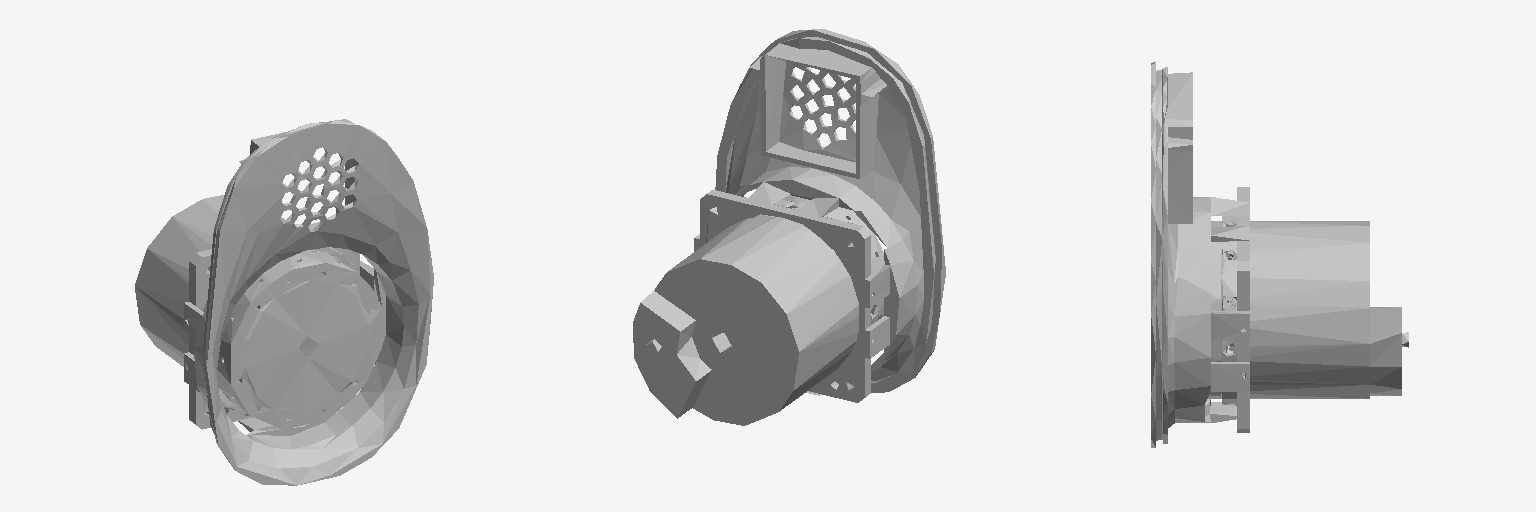
File: left_arm_base_link.obj
The picture shows the model from 3 angles: view 1: azimuth 30°, elevation 25°; view 2: azimuth 150°, elevation 25°; view 3: azimuth 270°, elevation 25°; orthographic projection.
Visible parts, largest first — view 1: Base_Link; view 2: Base_Link; view 3: Base_Link.
Part boxes in pixels (x1,y1,x2,y2): Base_Link: (135,119,433,485); Base_Link: (633,29,945,425); Base_Link: (1151,62,1408,447).
Size of the model in its own units: 0.1036 by 0.1547 by 0.102.